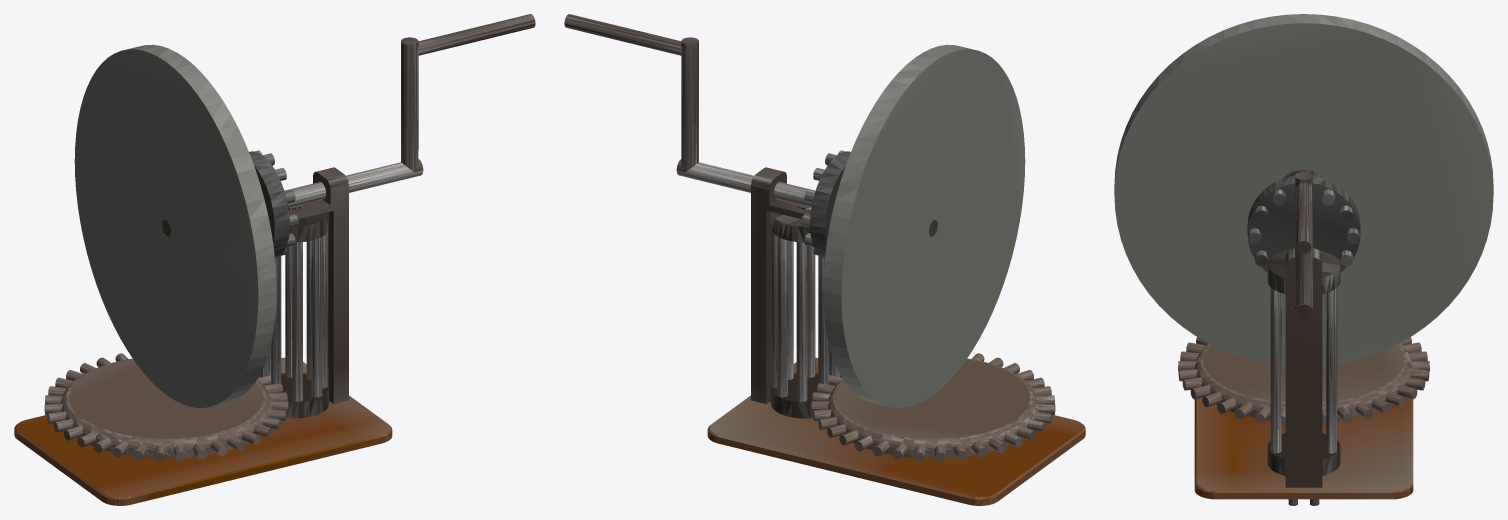
Rendered from maquina_vidrios_concavos.glb.
The picture shows the model from 3 angles, left to right: view 1: azimuth 30°, elevation 25°; view 2: azimuth 150°, elevation 25°; view 3: azimuth 270°, elevation 25°; orthographic projection. The views are drawn at different scales.
Visible parts, largest first — view 1: wheel1, mirror_bed, baseplate1, pinion, handle1, support, disc1; view 2: wheel1, mirror_bed, baseplate1, pinion, handle1, support, disc1; view 3: wheel1, baseplate1, mirror_bed, support, disc1, pinion, handle1.
Boxes of the visible parts, box(x1,y1,x2,y2) form: wheel1: box(74, 44, 276, 407); mirror_bed: box(44, 353, 288, 461); baseplate1: box(14, 357, 392, 505); pinion: box(260, 204, 329, 418); handle1: box(162, 14, 535, 236); support: box(289, 167, 348, 404); disc1: box(249, 150, 298, 257); wheel1: box(823, 44, 1025, 407); mirror_bed: box(811, 353, 1055, 461); baseplate1: box(707, 357, 1085, 505); pinion: box(770, 204, 839, 418); handle1: box(564, 14, 937, 236); support: box(751, 167, 810, 404); disc1: box(801, 150, 850, 257); wheel1: box(1114, 14, 1493, 365); baseplate1: box(1194, 397, 1413, 499); mirror_bed: box(1178, 337, 1429, 425); support: box(1285, 248, 1322, 505); disc1: box(1247, 175, 1360, 272); pinion: box(1267, 251, 1340, 475); handle1: box(1295, 172, 1312, 320).
Bounding box in the file's own units: 309 × 246 × 208.
8 materials, 8 textured.
